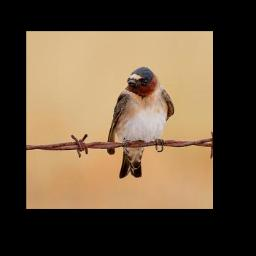Swallow: (106, 65, 174, 179)
